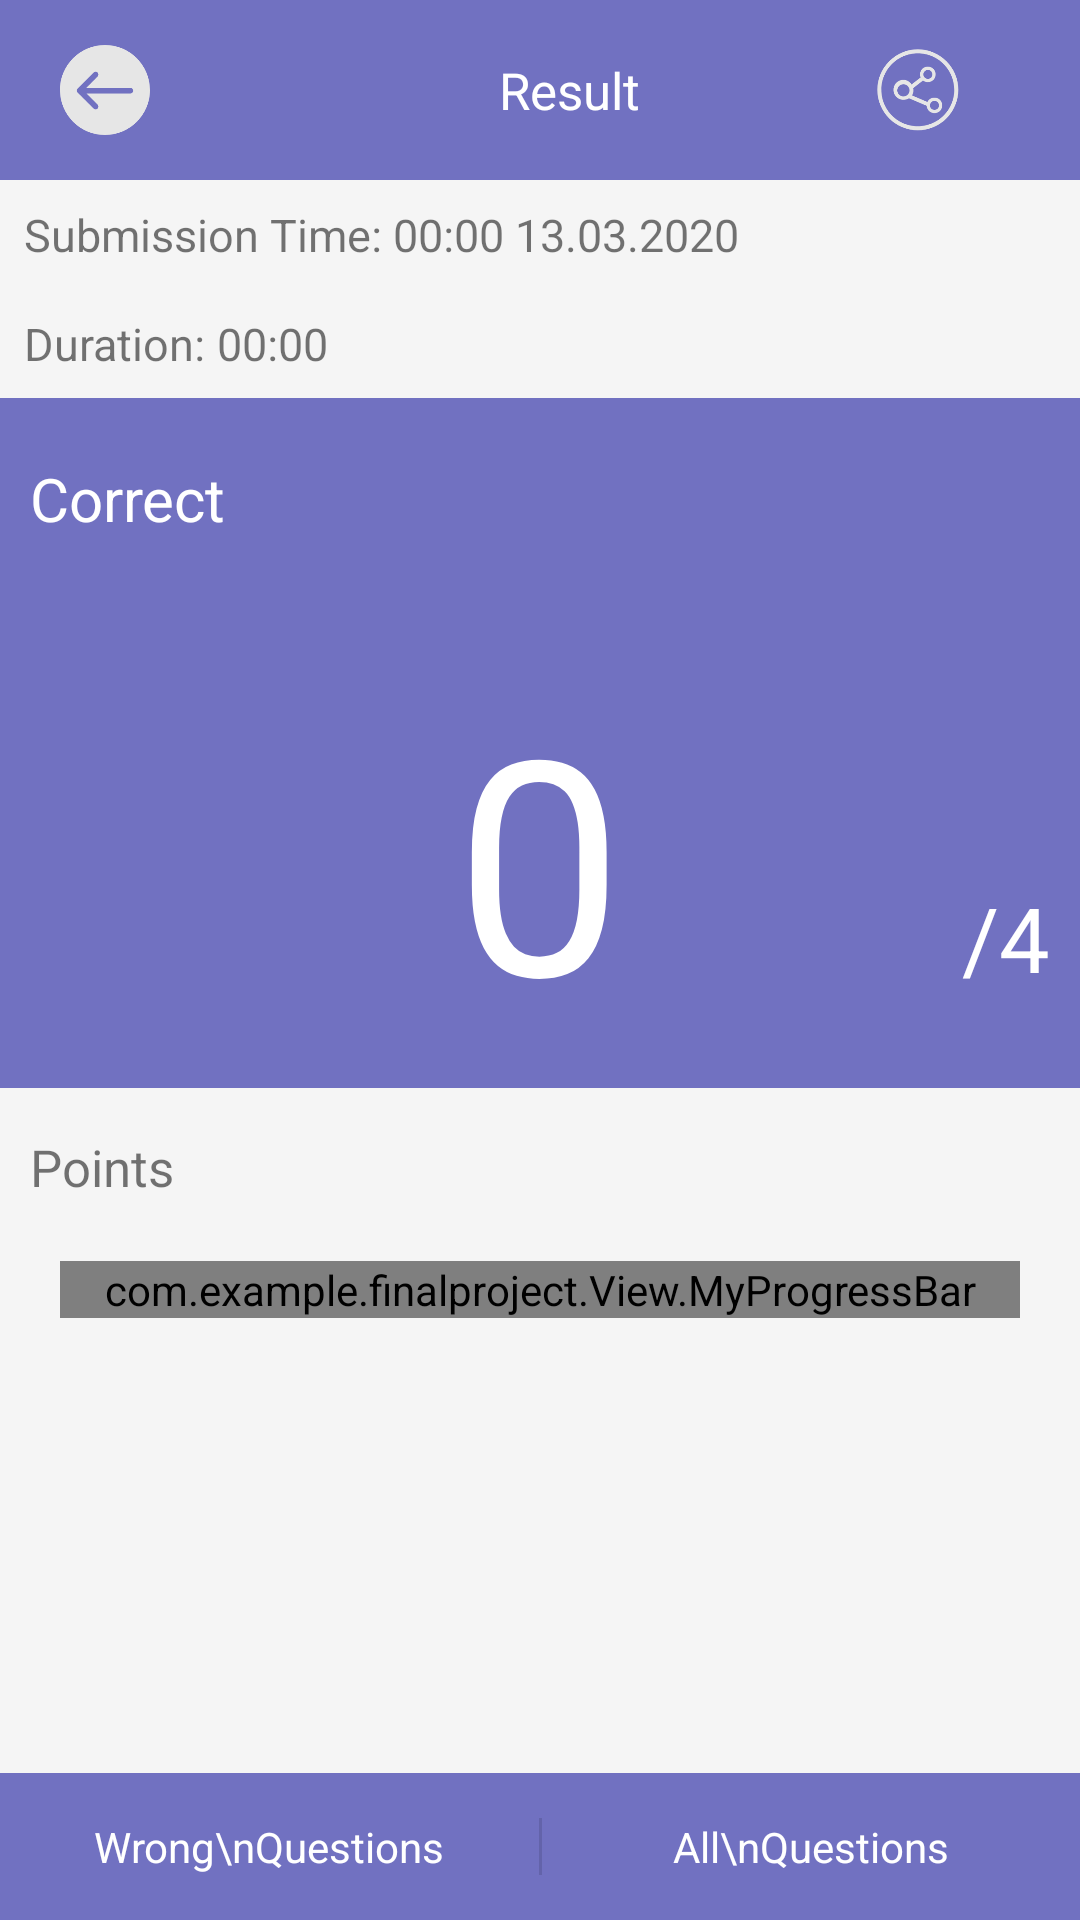

Icons on this 1080x1920 Android screen, each with the point to tap as point (x, y):
share: point (918, 90)
